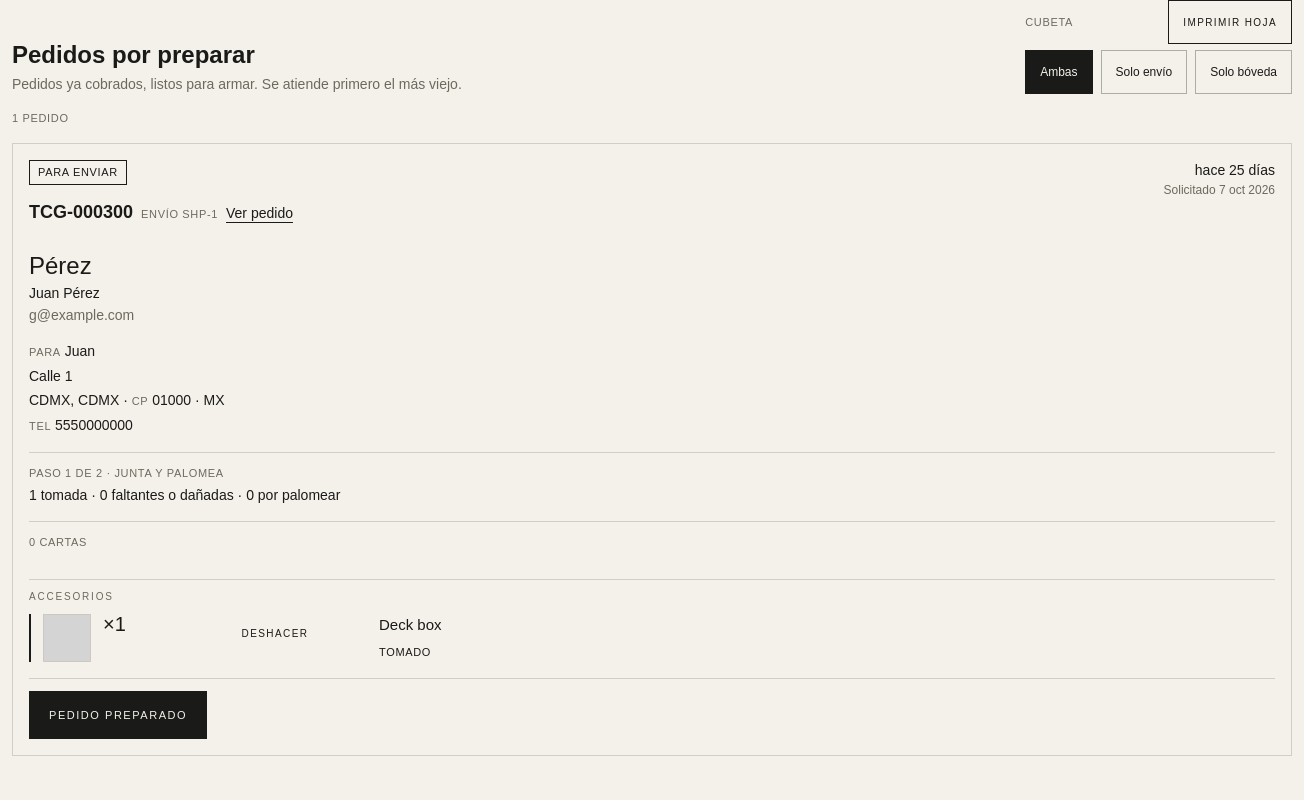
v1.86.3 (§AC.19.5) · respuesta del PATCH y PREPARATION_INCOMPLETE › 409 PREPARATION_INCOMPLETE {pendingCount:0, pendingAccessoryCount:1} ⇒ habla del accesorio, ⛔ no de «0 cartas»
Click the button "Pedido preparado": (118, 715) [29, 690, 207, 739]
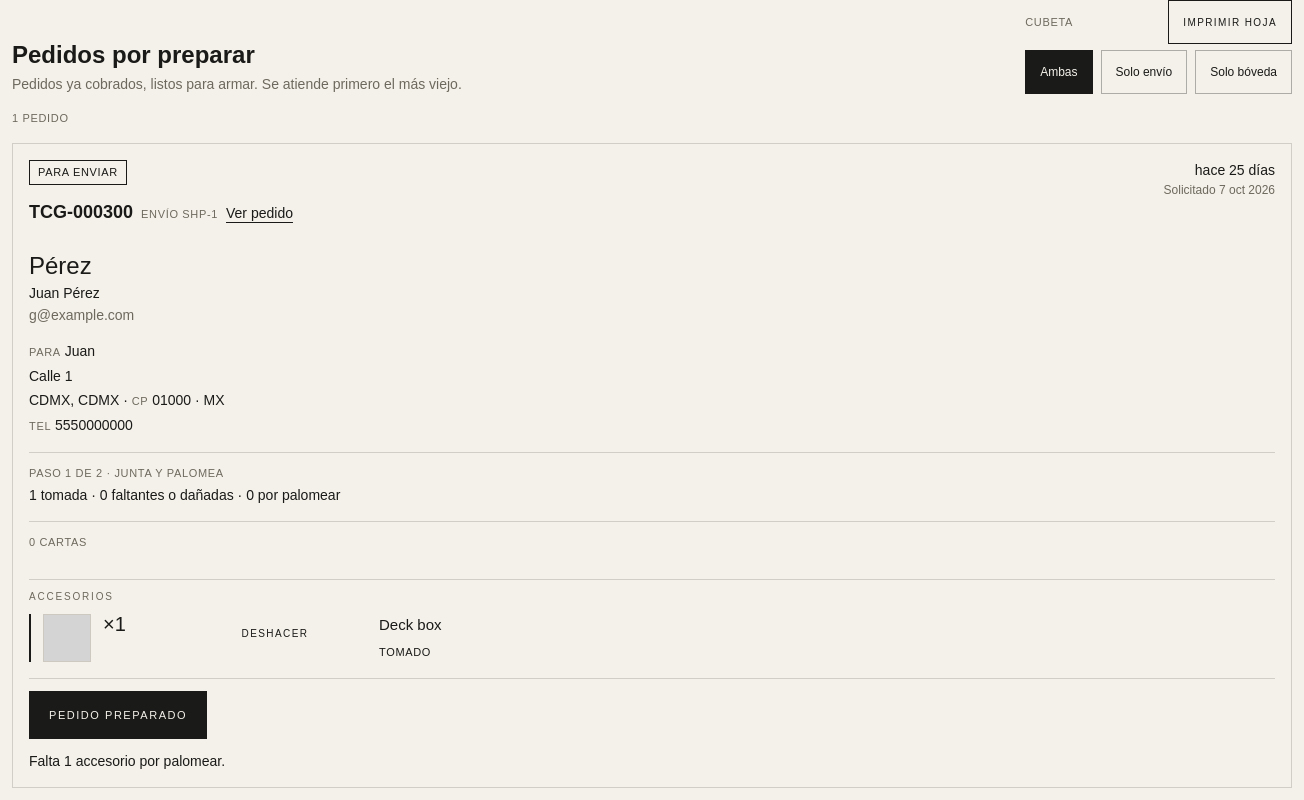
Expected: the text "Falta 1 accesorio por palomear." is shown, [29, 751, 225, 771]
